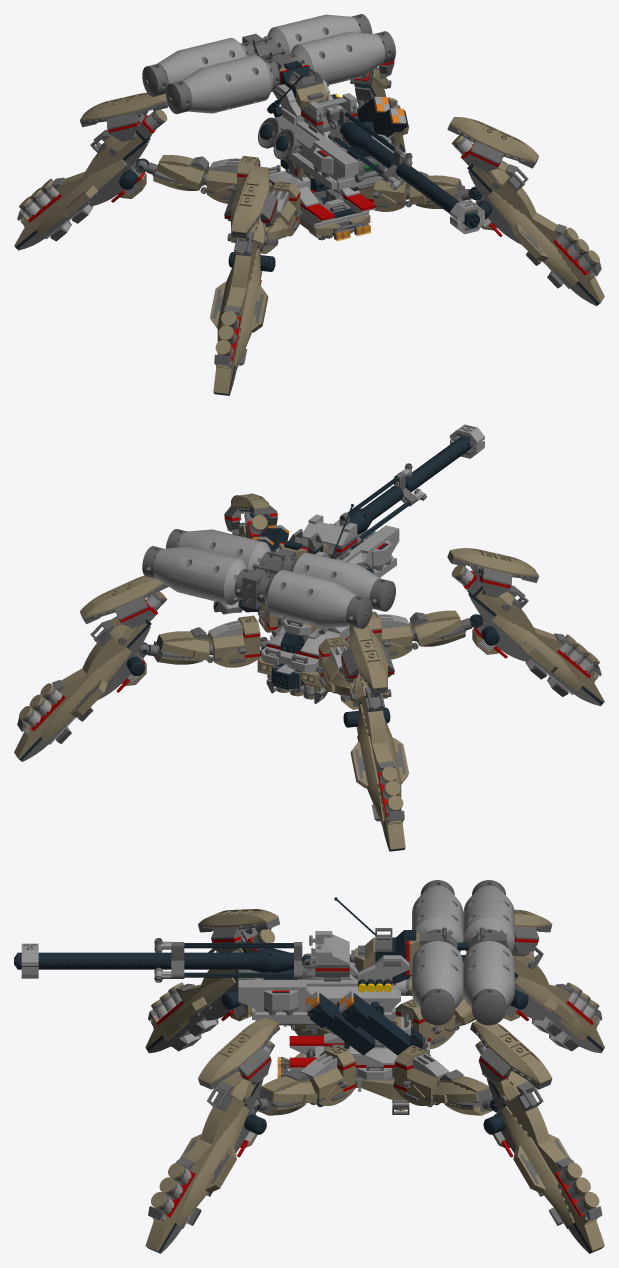
Rendered from bp-02d-cicada.dae.
3 views of the same model, one above another, from view 1: azimuth 30°, elevation 25°; view 2: azimuth 150°, elevation 25°; view 3: azimuth 270°, elevation 25° (orthographic). The views are drawn at different scales.
Bounding box in the file's own units: 1154 × 1381 × 619.
